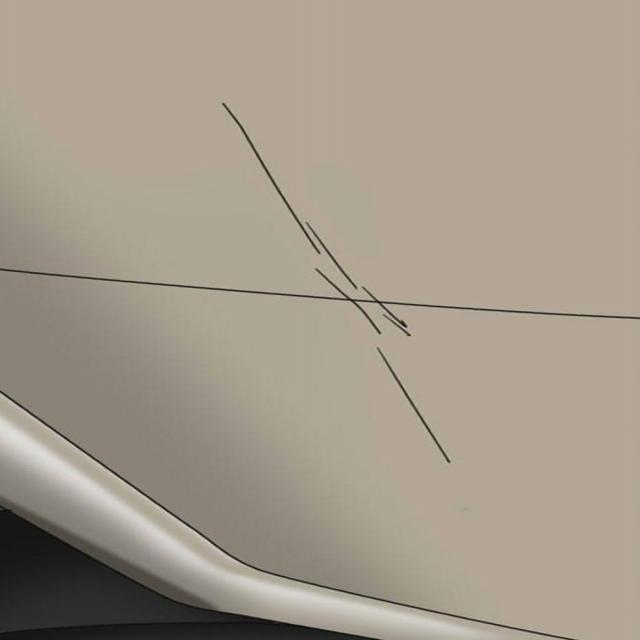scratch: (204, 90, 436, 338), (358, 343, 473, 472)
